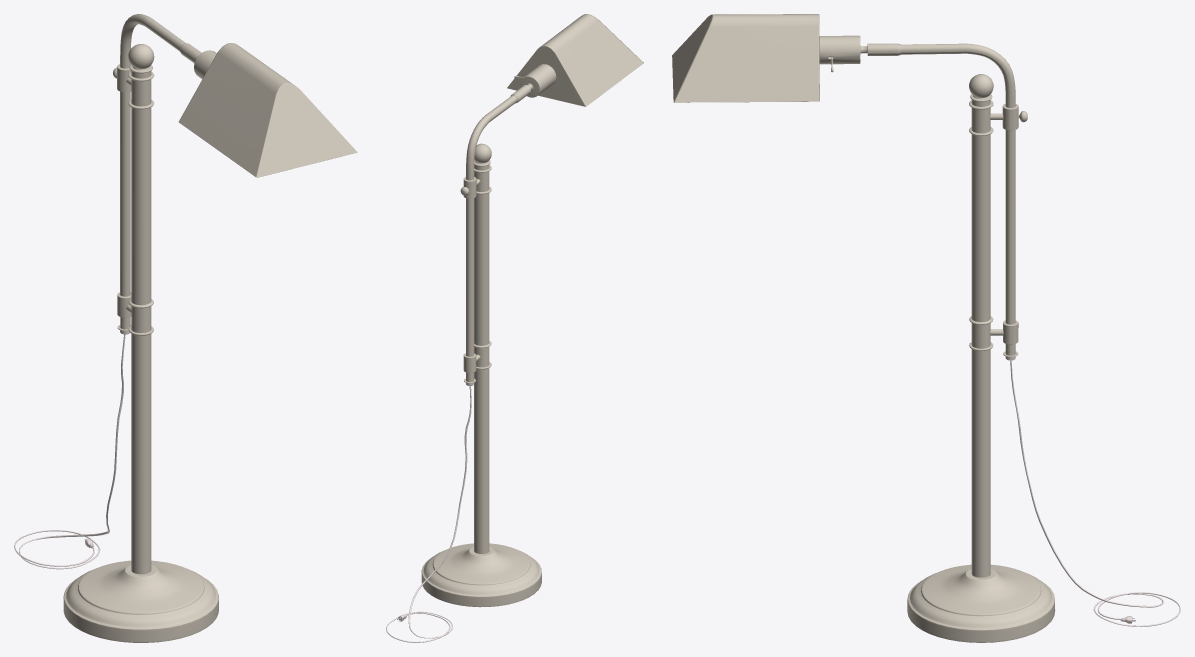
File: lamp_B07DBHB6D4.glb
3 renders of one model, left to right at view 1: azimuth 30°, elevation 25°; view 2: azimuth 150°, elevation 25°; view 3: azimuth 270°, elevation 25°, orthographic. The views are drawn at different scales.
Parts seen in each view (by area): view 1: RootNode; view 2: RootNode; view 3: RootNode.
Boxes of the visible parts, box(x1,y1,x2,y2) form: RootNode: box(14, 14, 357, 642); RootNode: box(386, 14, 643, 642); RootNode: box(672, 14, 1180, 642).
Bounding box in the file's own units: 0.1586 × 0.708 × 0.5461.
Materials: 1 (1 with a texture image).
